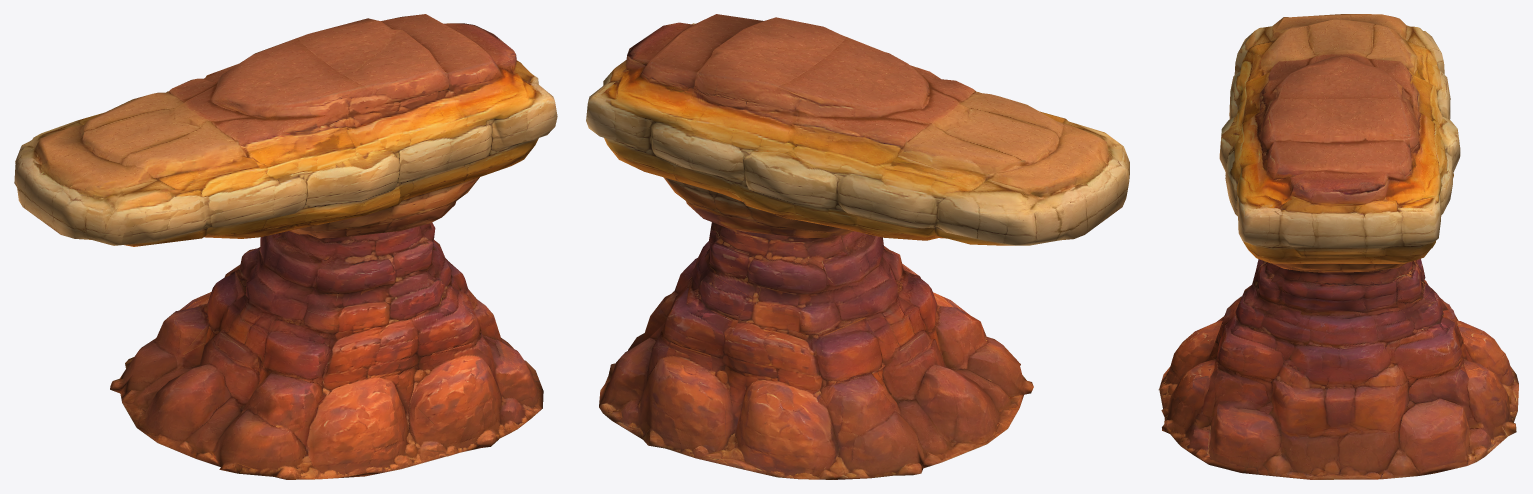
Rendered from Meshy_AI_Mushroom_Rock_0512182008_texture.fbx.
3 views of the same model, side by side, from view 1: azimuth 30°, elevation 25°; view 2: azimuth 150°, elevation 25°; view 3: azimuth 270°, elevation 25° (orthographic). The views are drawn at different scales.
Visible parts, largest first — view 1: Mesh_0; view 2: Mesh_0; view 3: Mesh_0.
Boxes of the visible parts, <box> form: Mesh_0: <box>14,14,557,479</box>; Mesh_0: <box>586,14,1129,479</box>; Mesh_0: <box>1158,14,1518,479</box>.
Size of the model in its own units: 191 by 127 by 136.
1 material, 1 textured.
